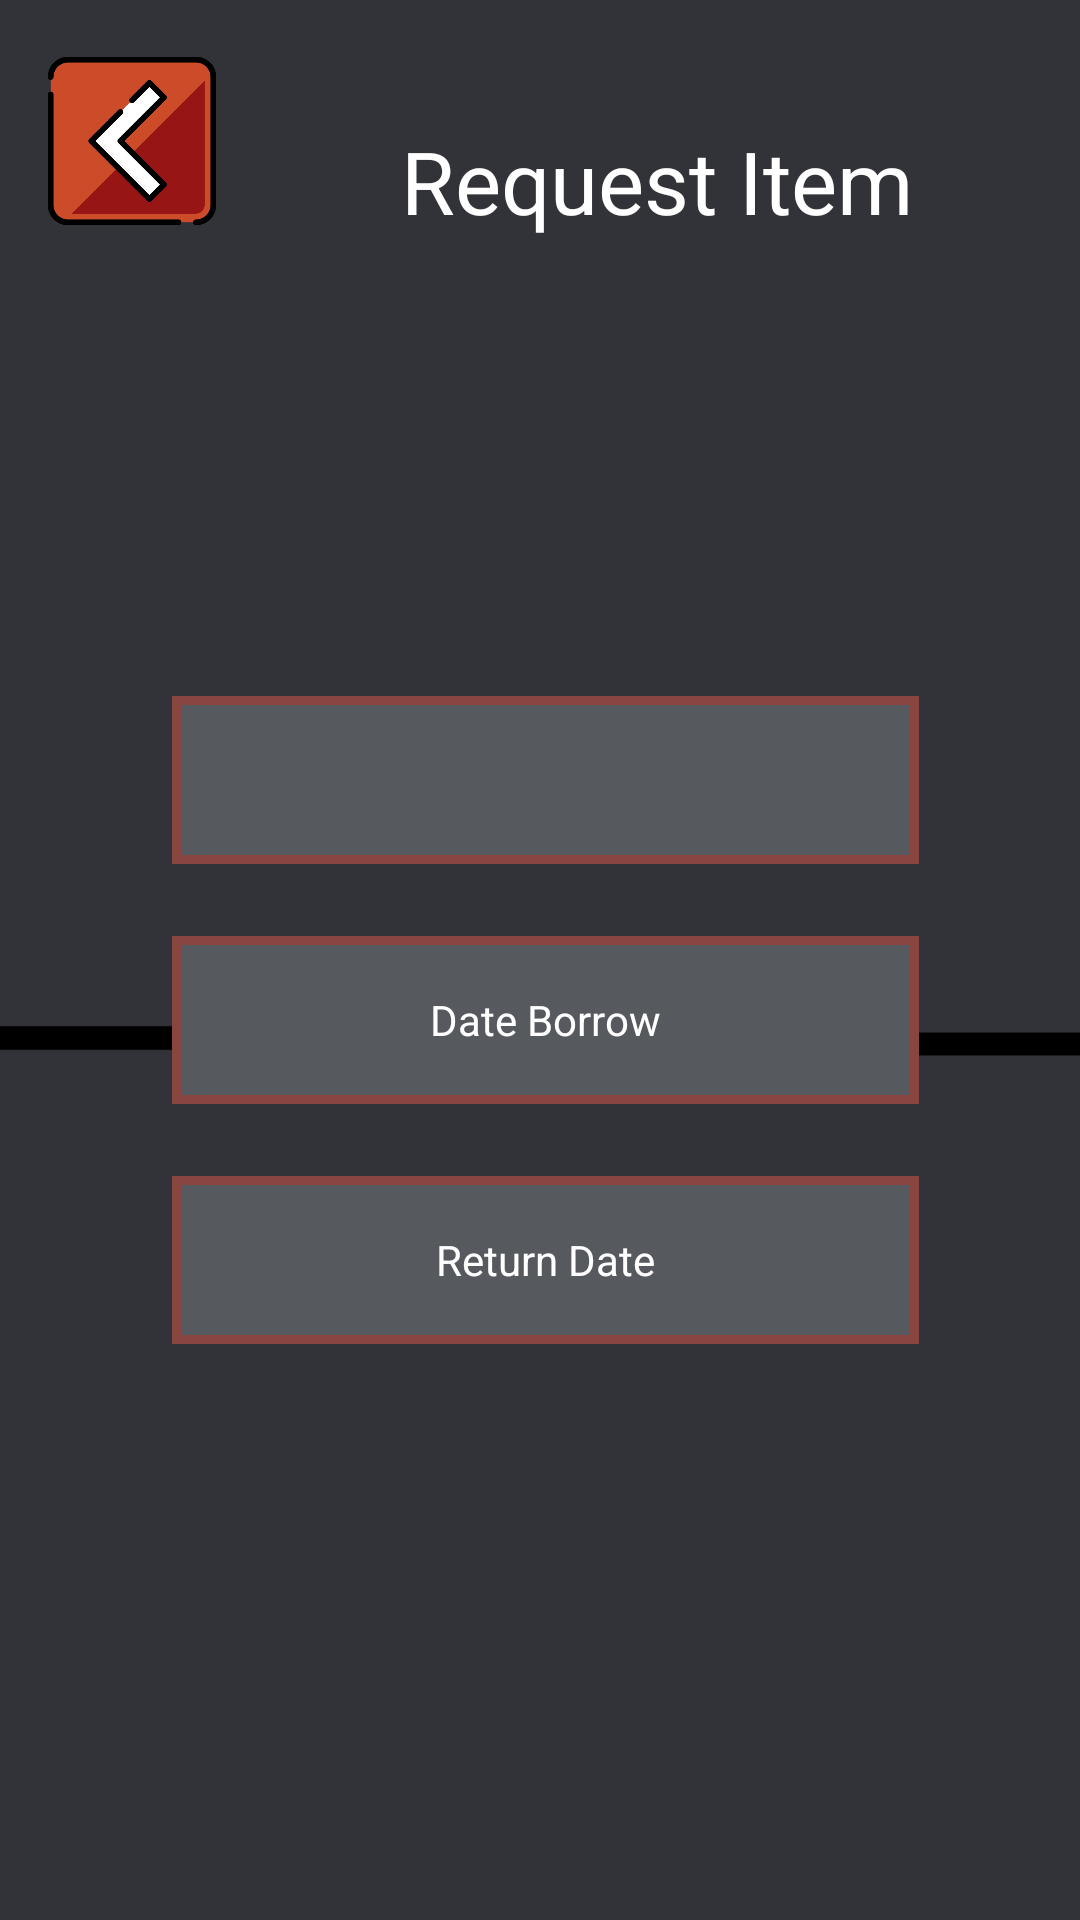

Named icons in this screenshot (1080w x 1920h) and their bounding boxes, box=[x1, y1, x2, y2]:
backbutton: box=[48, 57, 216, 225]
